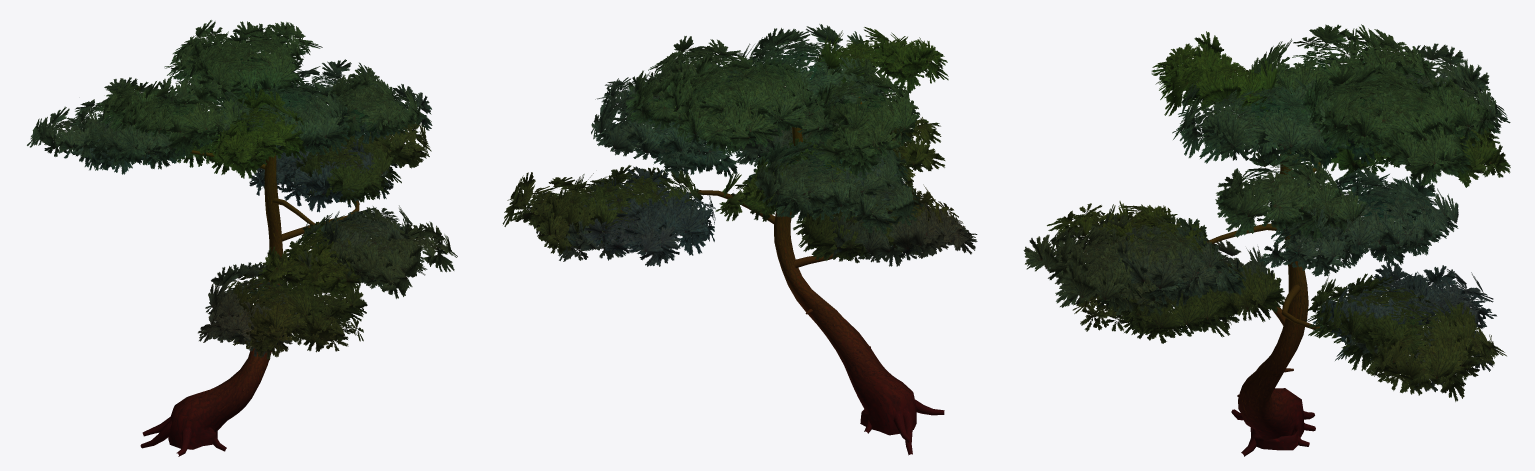
The model's file is pine_0.glb.
3 views of the same model, side by side, from view 1: azimuth 30°, elevation 25°; view 2: azimuth 150°, elevation 25°; view 3: azimuth 270°, elevation 25° (orthographic). The views are drawn at different scales.
Visible parts, largest first — view 1: pine_0; view 2: pine_0; view 3: pine_0.
Part boxes in pixels (box(x1,y1,x2,y2)): pine_0: box(27, 20, 457, 456); pine_0: box(502, 24, 977, 455); pine_0: box(1023, 24, 1510, 456).
Bounding box in the file's own units: 8.85 × 7.62 × 7.97.
Materials: 2 (2 with a texture image).
